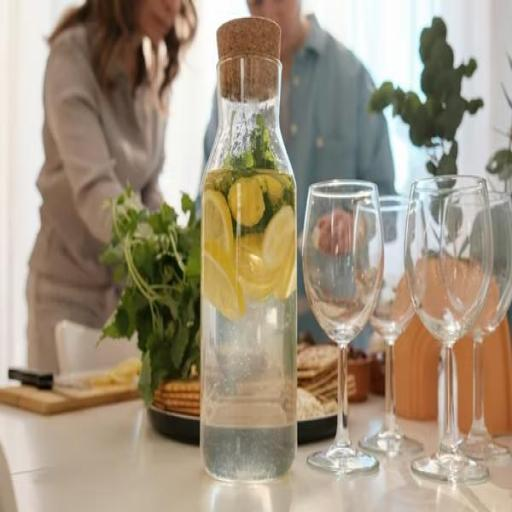bottle: (194, 8, 302, 490)
